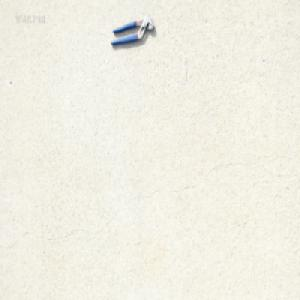Pliers: (109, 16, 154, 46)
